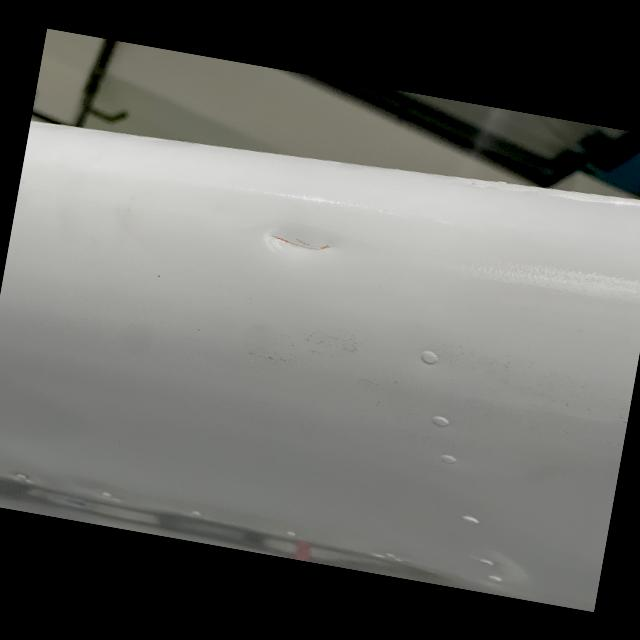dent: (240, 204, 368, 270)
